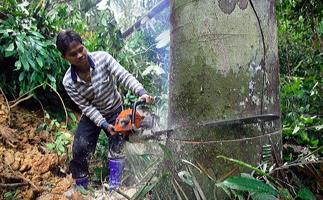person: (57, 31, 155, 200)
